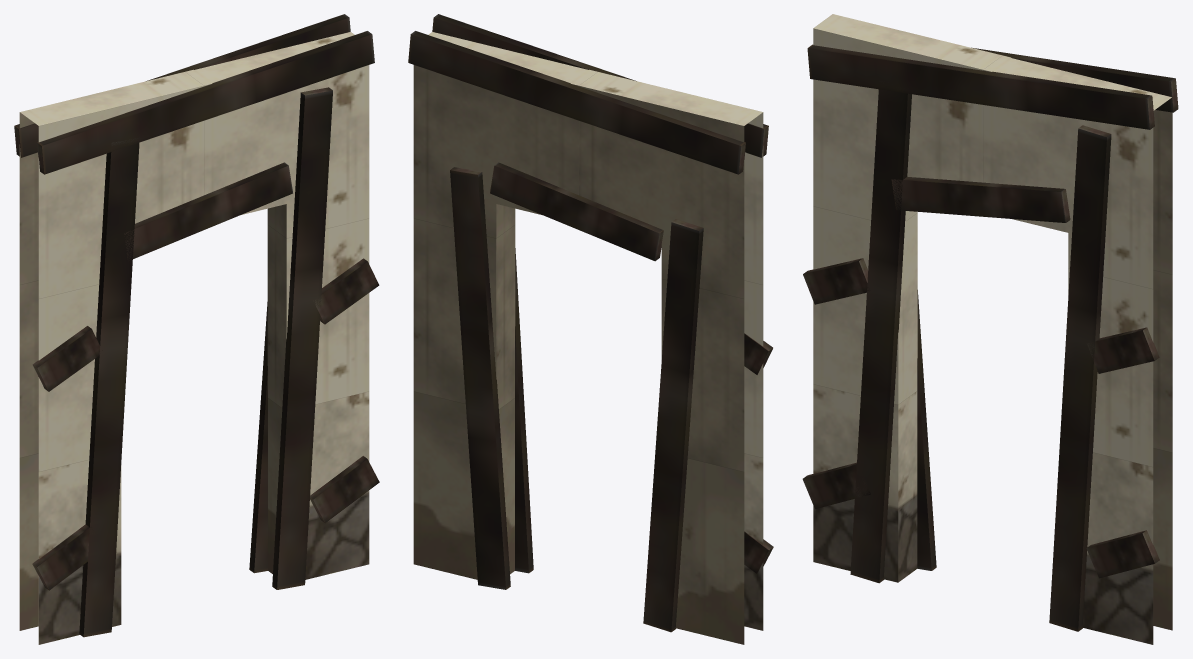
The model's file is wall_doorway_timber.obj.
The picture shows the model from 3 angles, left to right: view 1: azimuth 30°, elevation 25°; view 2: azimuth 150°, elevation 25°; view 3: azimuth 330°, elevation 25°; orthographic projection. The views are drawn at different scales.
Parts seen in each view (by area): view 1: wall_doorway_timber_3, wall_doorway_timber, wall_doorway_timber_2, wall_doorway_timber_1, wall_doorway_timber_4; view 2: wall_doorway_timber_4, wall_doorway_timber, wall_doorway_timber_2, wall_doorway_timber_1, wall_doorway_timber_3; view 3: wall_doorway_timber_3, wall_doorway_timber_2, wall_doorway_timber, wall_doorway_timber_1, wall_doorway_timber_4.
Part boxes in pixels (x1,y1,x2,y2): wall_doorway_timber_3: (32,31,379,637); wall_doorway_timber: (19,92,121,644); wall_doorway_timber_2: (267,32,369,579); wall_doorway_timber_1: (103,52,286,223); wall_doorway_timber_4: (14,14,350,573); wall_doorway_timber_4: (408,31,745,632); wall_doorway_timber: (661,92,763,644); wall_doorway_timber_2: (413,32,515,579); wall_doorway_timber_1: (496,52,679,229); wall_doorway_timber_3: (432,14,773,573); wall_doorway_timber_3: (802,44,1159,631); wall_doorway_timber_2: (1068,76,1172,644); wall_doorway_timber: (813,14,917,582); wall_doorway_timber_1: (898,35,1086,232); wall_doorway_timber_4: (917,47,1178,570).
Size of the model in its own units: 2.07 by 3.09 by 0.29.
1 material, 1 textured.
